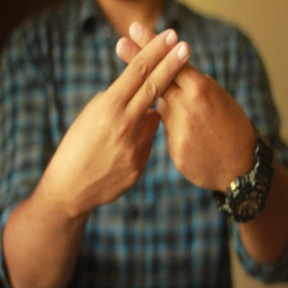F: (94, 21, 218, 146)
